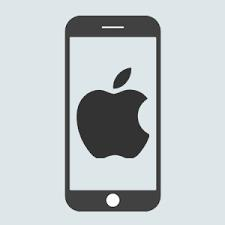Smartphone: (66, 11, 163, 213)
